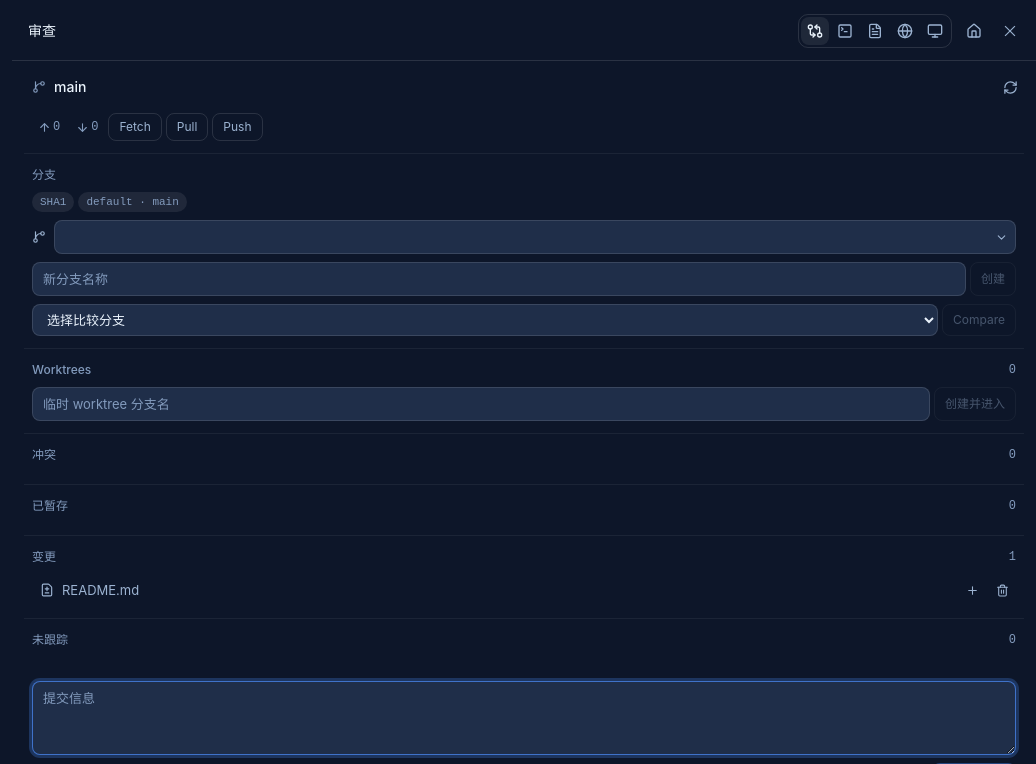
WorkspacePanel › requestWorkspace({ pane: review, focus: commit }) focuses the commit box
The width and height of the screenshot is (1036, 764).
Expected: the text box with placeholder "提交信息" is shown, [32,681,1016,755]
Click the button named "文件" at point(875, 31), box [861,17,889,45]
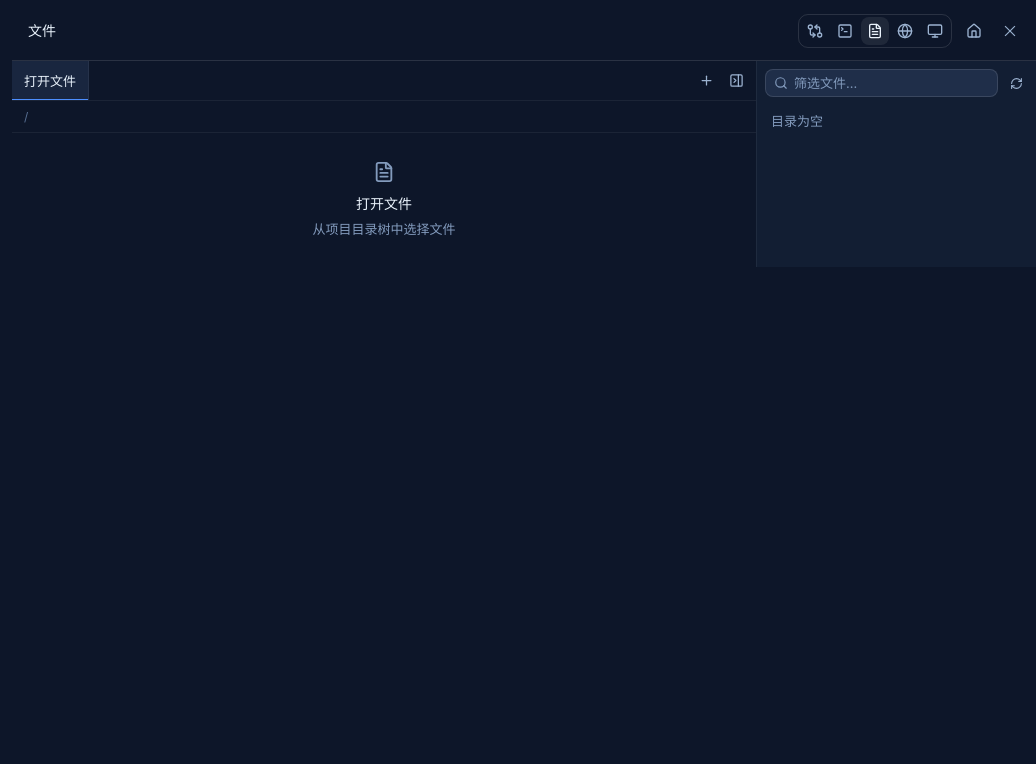
Click the button named "审查" at point(815, 31), box [801,17,829,45]
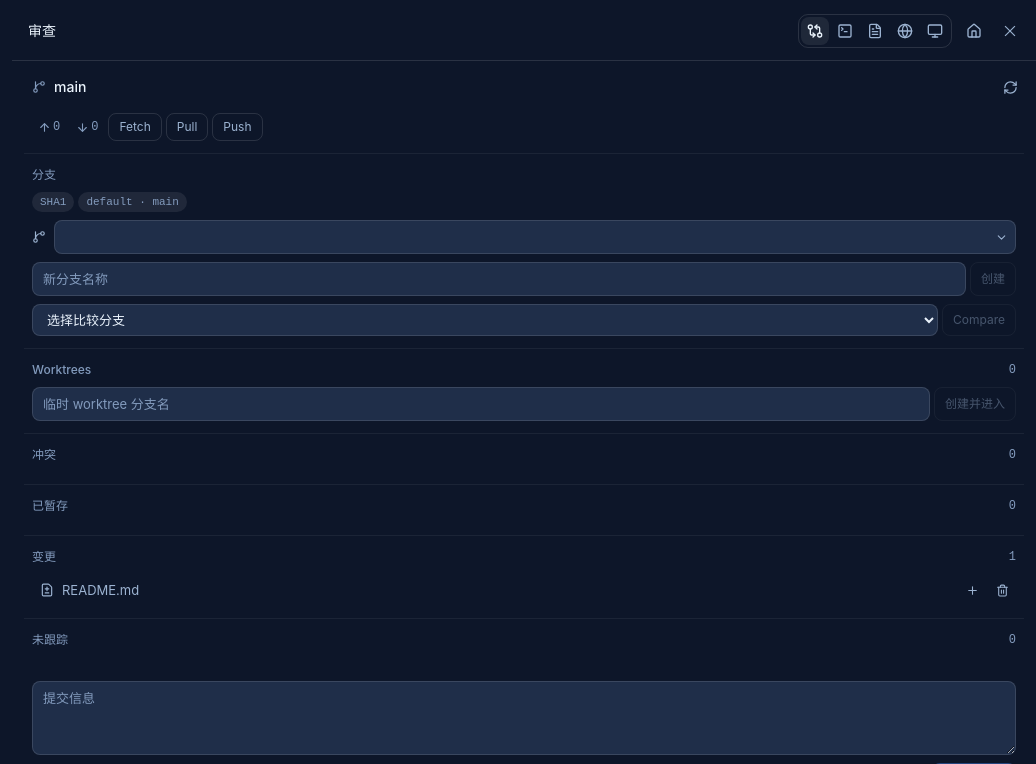
Expected: the text box with placeholder "提交信息" is shown, [32,681,1016,755]
